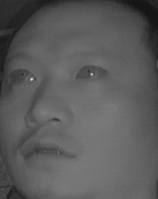eye: (75, 61, 110, 82), (7, 65, 39, 86)
mouth: (20, 129, 80, 169)
